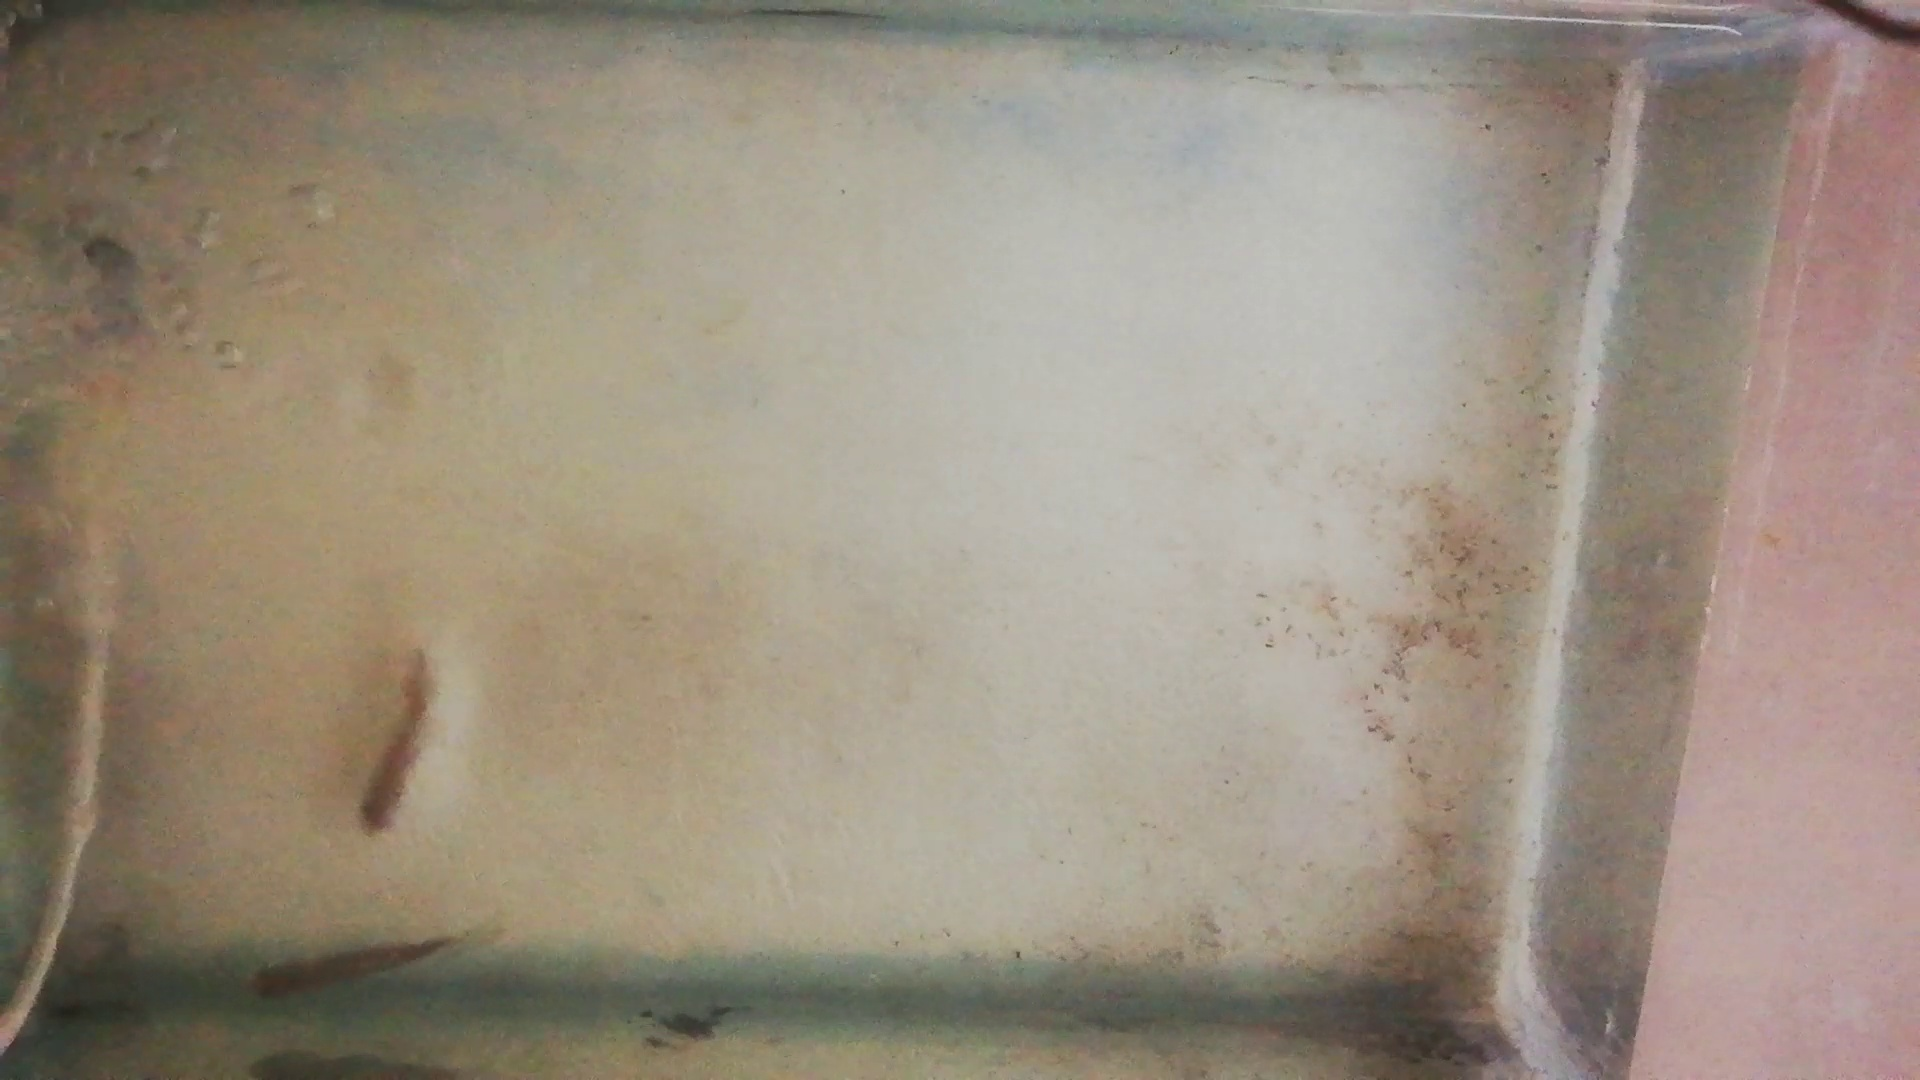fish: (353, 655, 431, 835), (251, 936, 443, 1004)
